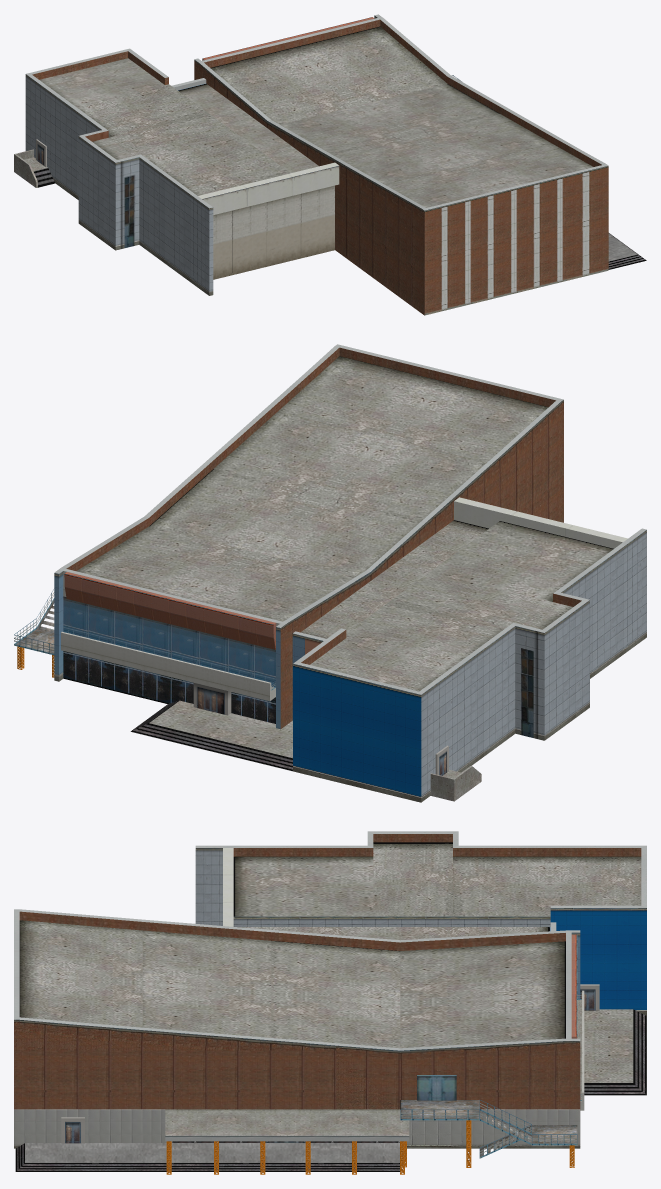
Rendered from house_35_cinema.FBX.
The picture shows the model from 3 angles, top to bottom: view 1: azimuth 30°, elevation 25°; view 2: azimuth 150°, elevation 25°; view 3: azimuth 270°, elevation 25°; orthographic projection. The views are drawn at different scales.
Visible parts, largest first — view 1: house_35_cinema; view 2: house_35_cinema; view 3: house_35_cinema.
Part boxes in pixels (bbox=[...]): house_35_cinema: bbox=[14, 14, 646, 315]; house_35_cinema: bbox=[14, 344, 646, 802]; house_35_cinema: bbox=[14, 831, 646, 1174].
Size of the model in its own units: 53.53 by 13.65 by 60.73.
